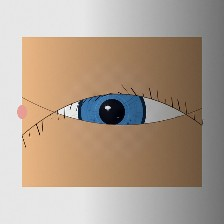pinguecula_lesion: (32, 98, 61, 121)
